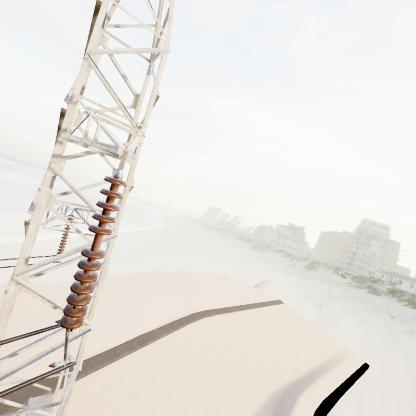insulator: (58, 173, 131, 334)
